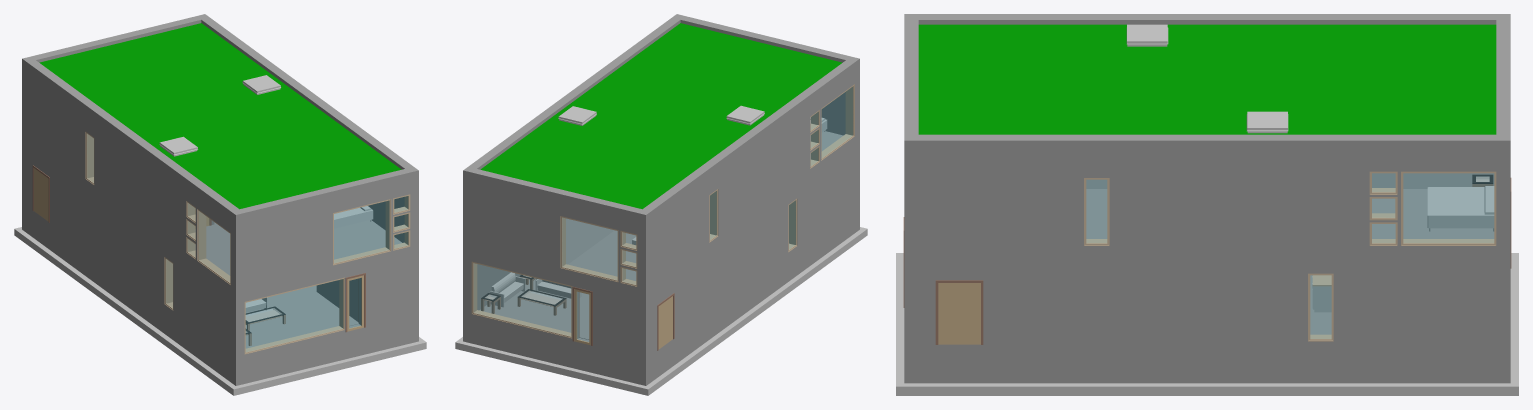
The model's file is House.fbx.
3 views of the same model, side by side, from view 1: azimuth 30°, elevation 25°; view 2: azimuth 150°, elevation 25°; view 3: azimuth 270°, elevation 25° (orthographic). The views are drawn at different scales.
Visible parts, largest first — view 1: Basic Roof:Live Roof over Wood Joist Flat Roof:184483, Basic Wall:Exterior - Brick on Block:138310, Basic Wall:Exterior - Brick on Block:143590, Basic Wall:Exterior - Brick on Block:143534, Basic Wall:Exterior - Brick on Block:138237, Basic Wall:Foundation - Concrete (417mm):140602, M_Fixed:4835mm x 2420mm:4835mm x 2420mm:146016, Basic Wall:Foundation - Concrete (417mm):140554, Basic Wall:Exterior - Brick on Block:185101, Floor:Finish Floor - Wood:170352, Basic Wall:Exterior - Brick on Block:185064, M_Fixed:2800mm x 2410mm:2800mm x 2410mm:149278 (+18 smaller); view 2: Basic Roof:Live Roof over Wood Joist Flat Roof:184483, Basic Wall:Exterior - Brick on Block:138310, Basic Wall:Exterior - Brick on Block:143590, Basic Wall:Exterior - Brick on Block:143410, Basic Wall:Exterior - Brick on Block:138062, Basic Wall:Foundation - Concrete (417mm):140602, M_Fixed:4835mm x 2420mm:4835mm x 2420mm:145788, Basic Wall:Foundation - Concrete (417mm):140479, Basic Wall:Exterior - Brick on Block:185101, Basic Wall:Exterior - Brick on Block:184944, M_Fixed:2800mm x 2410mm:2800mm x 2410mm:147686, Wall Foundation:Bearing Footing - 900 x 300:186612 (+18 smaller); view 3: Basic Roof:Live Roof over Wood Joist Flat Roof:184483, Basic Wall:Exterior - Brick on Block:138157, Basic Wall:Exterior - Brick on Block:143478, Basic Wall:Foundation - Concrete (417mm):140520, Basic Wall:Exterior - Brick on Block:185014, Wall Foundation:Bearing Footing - 900 x 300:186596, M_Fixed:2800mm x 2410mm:2800mm x 2410mm:181096, Basic Wall:Exterior - Brick on Block:185101, M_Single-Flush:1250mm x 2010mm:1250mm x 2010mm:146596, M_Bed-Standard:1981 x 2032mm - King:1981 x 2032mm - King:168, Floor:Finish Floor - Wood:169188, Basic Wall:Exterior - Brick on Block:184944 (+16 smaller).
Part boxes in pixels (bbox=[...]): Basic Roof:Live Roof over Wood Joist Flat Roof:184483: bbox=[39, 23, 401, 209]; Basic Wall:Exterior - Brick on Block:138310: bbox=[27, 139, 230, 354]; Basic Wall:Exterior - Brick on Block:143590: bbox=[22, 72, 235, 291]; Basic Wall:Exterior - Brick on Block:143534: bbox=[236, 183, 418, 291]; Basic Wall:Exterior - Brick on Block:138237: bbox=[231, 249, 410, 358]; Basic Wall:Foundation - Concrete (417mm):140602: bbox=[27, 206, 230, 382]; M_Fixed:4835mm x 2420mm:4835mm x 2420mm:146016: bbox=[244, 277, 344, 354]; Basic Wall:Foundation - Concrete (417mm):140554: bbox=[231, 316, 410, 385]; Basic Wall:Exterior - Brick on Block:185101: bbox=[27, 60, 238, 224]; Floor:Finish Floor - Wood:170352: bbox=[245, 285, 358, 348]; Basic Wall:Exterior - Brick on Block:185064: bbox=[231, 169, 410, 228]; M_Fixed:2800mm x 2410mm:2800mm x 2410mm:149278: bbox=[333, 199, 391, 265]; Basic Roof:Live Roof over Wood Joist Flat Roof:184483: bbox=[480, 23, 842, 209]; Basic Wall:Exterior - Brick on Block:138310: bbox=[651, 139, 854, 354]; Basic Wall:Exterior - Brick on Block:143590: bbox=[646, 72, 859, 291]; Basic Wall:Exterior - Brick on Block:143410: bbox=[463, 183, 645, 291]; Basic Wall:Exterior - Brick on Block:138062: bbox=[463, 247, 650, 358]; Basic Wall:Foundation - Concrete (417mm):140602: bbox=[651, 206, 854, 382]; M_Fixed:4835mm x 2420mm:4835mm x 2420mm:145788: bbox=[471, 261, 572, 338]; Basic Wall:Foundation - Concrete (417mm):140479: bbox=[463, 314, 650, 385]; Basic Wall:Exterior - Brick on Block:185101: bbox=[643, 60, 854, 224]; Basic Wall:Exterior - Brick on Block:184944: bbox=[463, 167, 650, 228]; M_Fixed:2800mm x 2410mm:2800mm x 2410mm:147686: bbox=[560, 216, 618, 282]; Wall Foundation:Bearing Footing - 900 x 300:186612: bbox=[629, 235, 856, 395]; Basic Roof:Live Roof over Wood Joist Flat Roof:184483: bbox=[918, 24, 1496, 134]; Basic Wall:Exterior - Brick on Block:138157: bbox=[904, 249, 1496, 344]; Basic Wall:Exterior - Brick on Block:143478: bbox=[904, 159, 1510, 248]; Basic Wall:Foundation - Concrete (417mm):140520: bbox=[904, 344, 1496, 383]; Basic Wall:Exterior - Brick on Block:185014: bbox=[904, 134, 1496, 159]; Wall Foundation:Bearing Footing - 900 x 300:186596: bbox=[896, 373, 1518, 395]; M_Fixed:2800mm x 2410mm:2800mm x 2410mm:181096: bbox=[1401, 171, 1496, 245]; Basic Wall:Exterior - Brick on Block:185101: bbox=[918, 14, 1496, 24]; M_Single-Flush:1250mm x 2010mm:1250mm x 2010mm:146596: bbox=[935, 280, 983, 344]; M_Bed-Standard:1981 x 2032mm - King:1981 x 2032mm - King:168: bbox=[1427, 186, 1494, 231]; Floor:Finish Floor - Wood:169188: bbox=[1372, 189, 1494, 238]; Basic Wall:Exterior - Brick on Block:184944: bbox=[1496, 14, 1510, 159].
Size of the model in its own units: 9.28 by 8.18 by 18.28.
